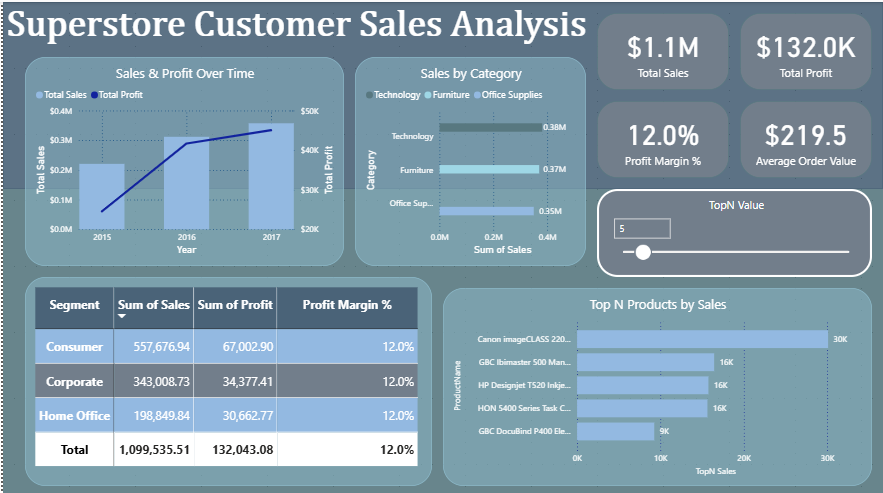

Layout of this report page (visuals, bound fields, positions):
{"tool":"powerbi","page":{"name":"Overview","canvas":[1280,720],"ordinal":0},"visuals":[{"type":"shape","box":[0,272,1280,448],"z":0},{"type":"shape","box":[0,0,1280,272],"z":1000},{"type":"textbox","box":[0,0,880,80],"z":2000},{"type":"card","fields":{"Values":["_Measures.Total Sales"]},"box":[864,16,192,112],"z":3000},{"type":"card","fields":{"Values":["_Measures.Total Profit"]},"box":[1072,16,192,112],"z":4000},{"type":"card","fields":{"Values":["_Measures.Profit Margin %"]},"box":[864,144,192,112],"z":5000},{"type":"card","fields":{"Values":["_Measures.Average Order Value (AOV)"]},"box":[1072,144,192,112],"z":6000},{"type":"lineClusteredColumnComboChart","title":"Sales & Profit Over Time","fields":{"Category":["Date.Year"],"Y":["_Measures.Total Sales"],"Y2":["_Measures.Total Profit"]},"box":[32,80,464,304],"z":7000},{"type":"clusteredBarChart","title":"Sales by Category ","fields":{"Series":["sales_analytics vw_sales_full.Category"],"Y":["Sum(sales_analytics vw_sales_full.Sales)"],"Category":["sales_analytics vw_sales_full.Category"]},"box":[512,80,336,304],"z":8000},{"type":"slicer","title":"TopN Value","fields":{"Values":["TopN Value.TopN Value"]},"box":[864,272,400,128],"z":9000},{"type":"clusteredBarChart","title":"Top N Products by Sales","fields":{"Category":["sales_analytics vw_sales_full.ProductName"],"Y":["_Measures.TopN Sales"]},"box":[640,416,624,288],"z":10000},{"type":"pivotTable","fields":{"Rows":["sales_analytics vw_sales_full.Segment"],"Values":["Sum(sales_analytics vw_sales_full.Sales)","Sum(sales_analytics vw_sales_full.Profit)","_Measures.Profit Margin %"]},"box":[32,400,592,304],"z":11000}]}

Visuals, with their boxes in screenshot pixels (x1, y1, x2, y2), scaled from the page's 1280x720 canvas onto the 883x493 screenshot:
shape: box=[0, 186, 882, 492]
shape: box=[0, 0, 882, 186]
textbox: box=[0, 0, 607, 55]
card - _Measures.Total Sales: box=[596, 11, 728, 88]
card - _Measures.Total Profit: box=[740, 11, 872, 88]
card - _Measures.Profit Margin %: box=[596, 99, 728, 175]
card - _Measures.Average Order Value (AOV): box=[740, 99, 872, 175]
"Sales & Profit Over Time" lineClusteredColumnComboChart: box=[22, 55, 342, 263]
"Sales by Category " clusteredBarChart: box=[353, 55, 585, 263]
"TopN Value" slicer: box=[596, 186, 872, 274]
"Top N Products by Sales" clusteredBarChart: box=[442, 285, 872, 482]
pivotTable - sales_analytics vw_sales_full.Segment x Sum(sales_analytics vw_sales_full.Sales): box=[22, 274, 430, 482]
